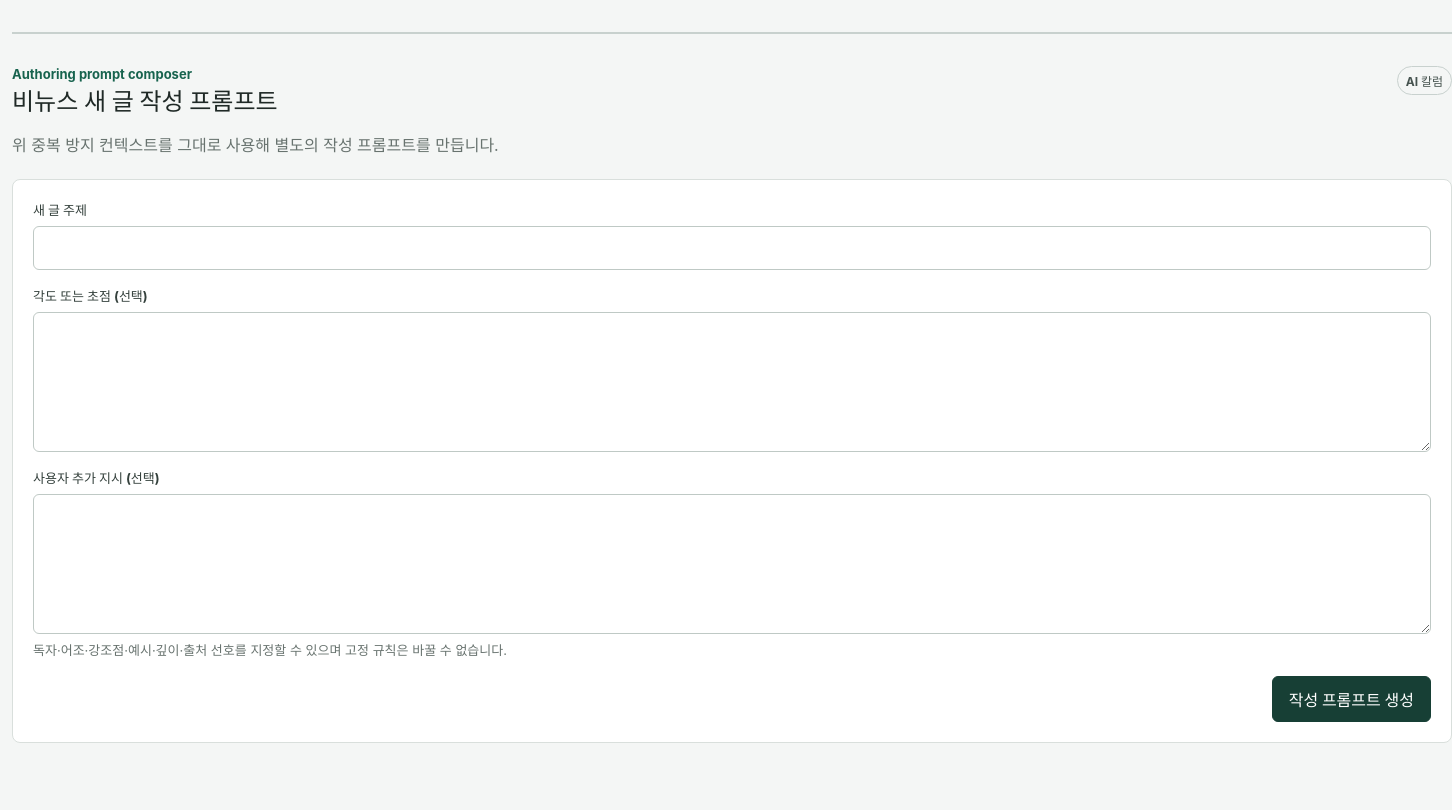
NonNewsPromptComposer › requires a normalized topic before generation
Click the button "작성 프롬프트 생성".
click(1351, 699)  # box [1272, 676, 1431, 722]
(page scrolled)
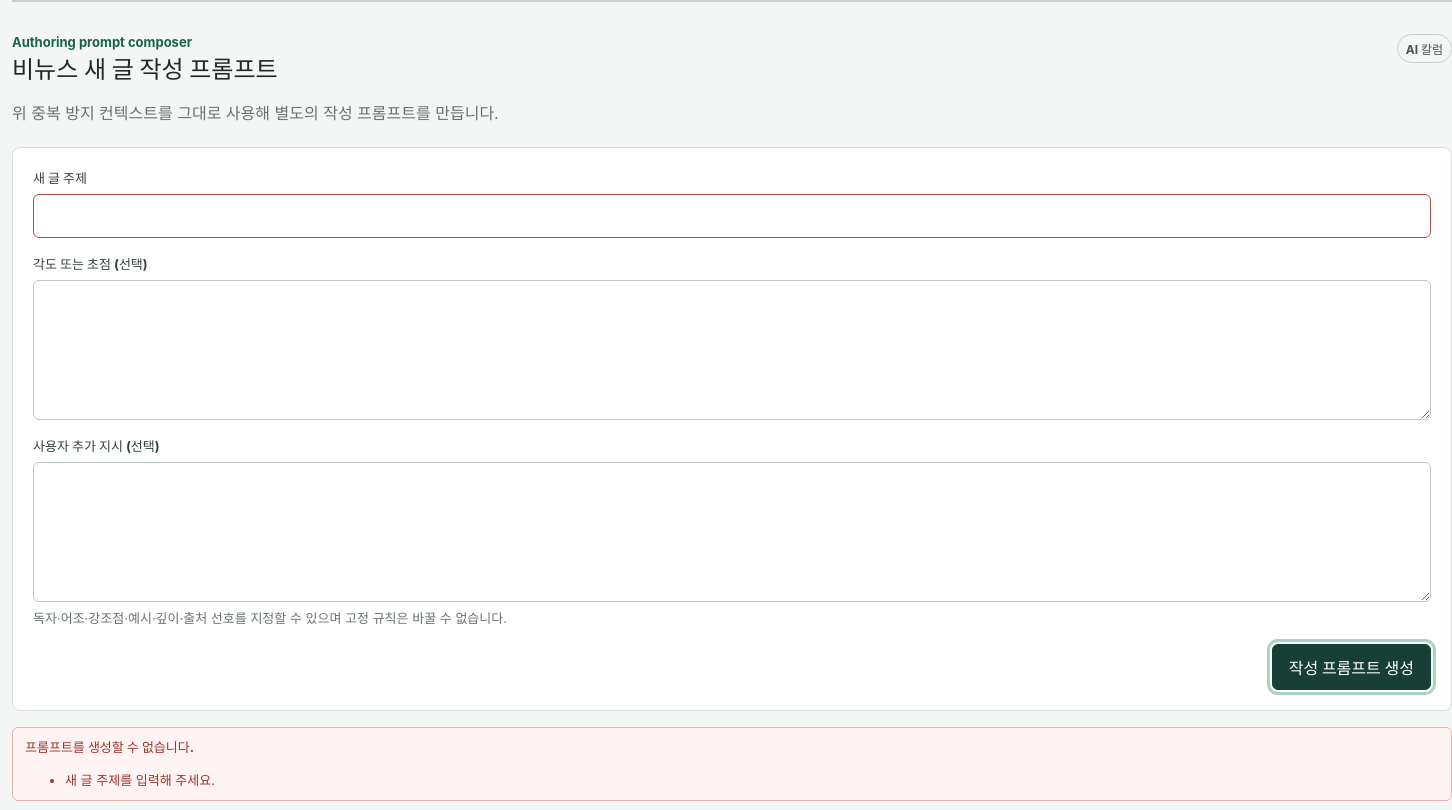
Result: the message shows "새 글 주제를 입력해 주세요." at [65, 772, 215, 788]
